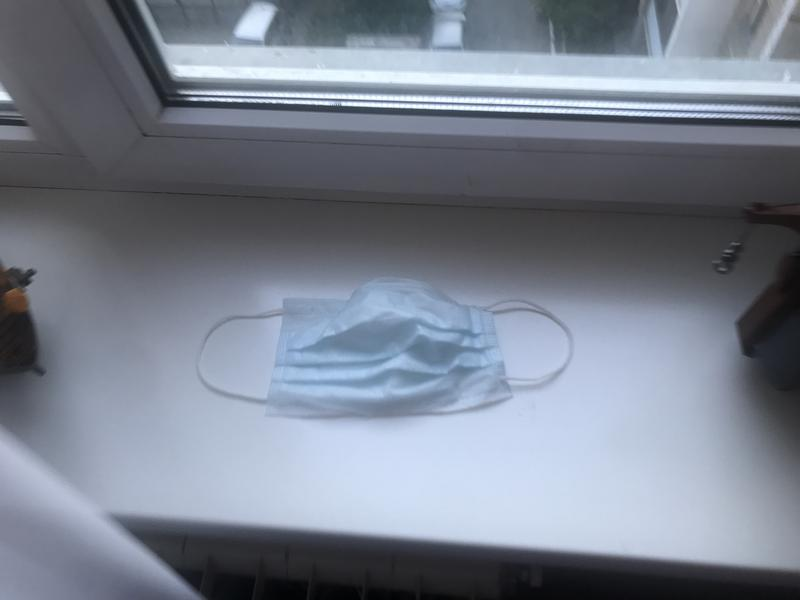medical_mask: (196, 282, 574, 403)
